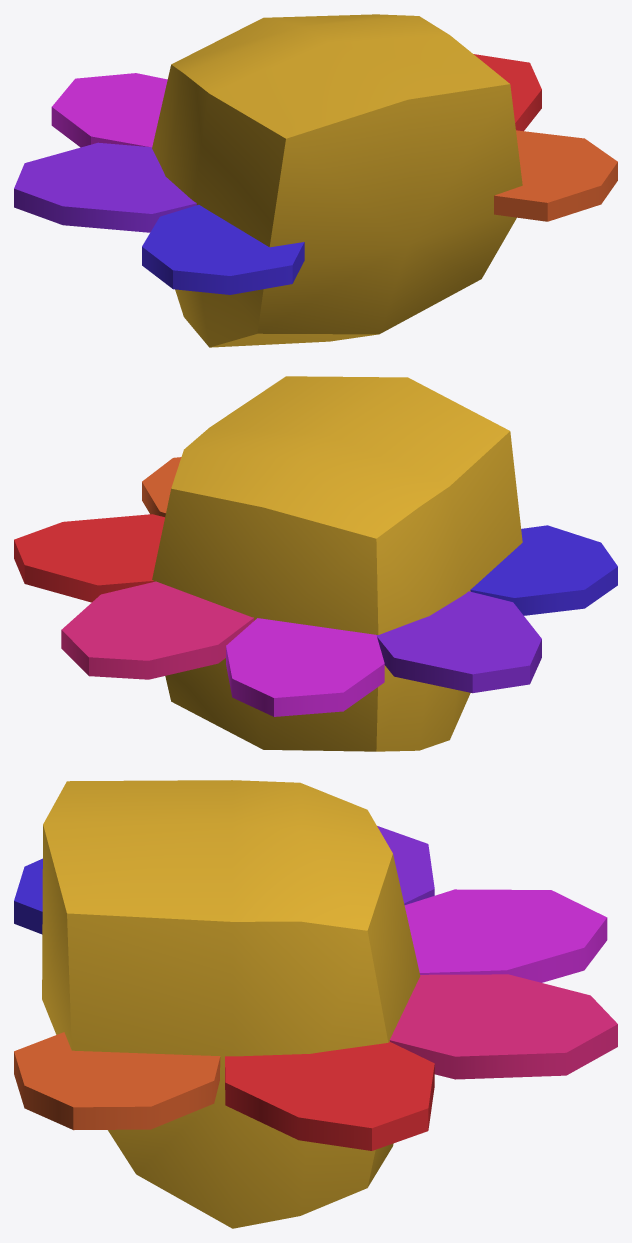
Rendered from Head 12.FBX.
The picture shows the model from 3 angles, top to bottom: view 1: azimuth 30°, elevation 25°; view 2: azimuth 150°, elevation 25°; view 3: azimuth 270°, elevation 25°; orthographic projection. The views are drawn at different scales.
Visible parts, largest first — view 1: Head 12; view 2: Head 12; view 3: Head 12.
Boxes of the visible parts, x1,y1,x2,y2 form: Head 12: [14, 14, 617, 347]; Head 12: [14, 376, 617, 751]; Head 12: [14, 780, 617, 1228].
Bounding box in the file's own units: 118 × 65.15 × 98.58.
1 material, 1 textured.
